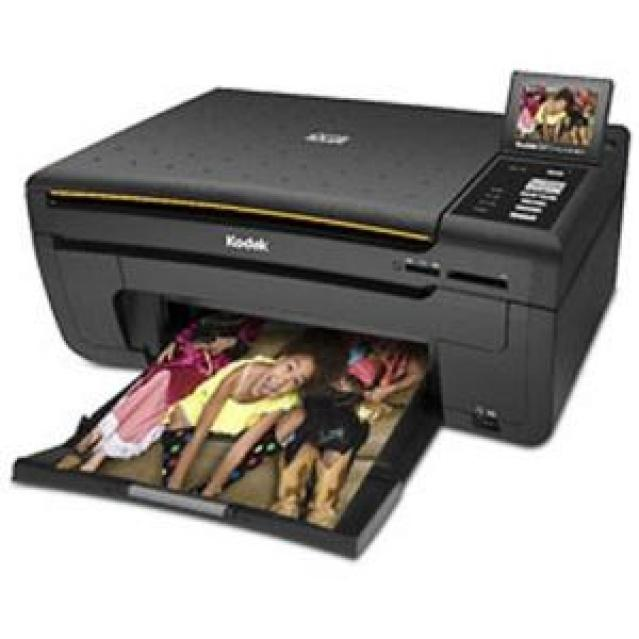Printer: (10, 85, 630, 560)
